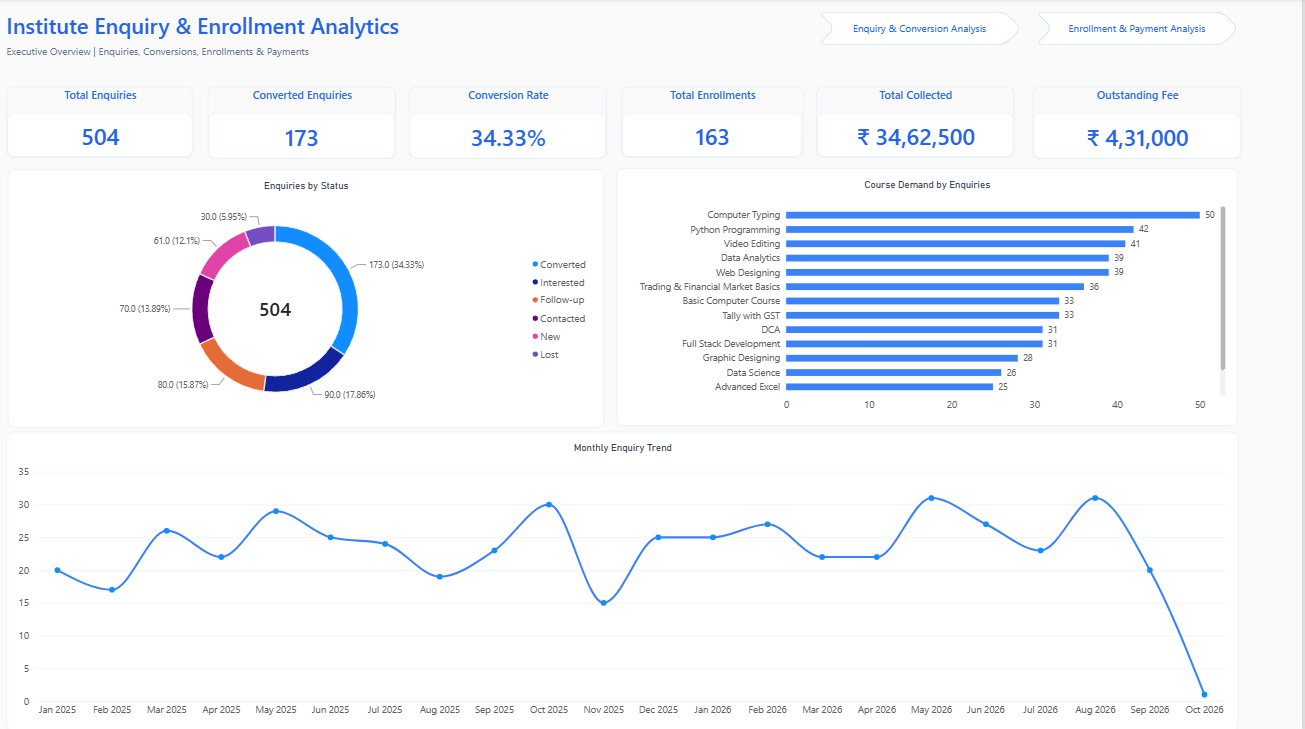

The page's visual inventory and layout, read from the dashboard file:
{"tool":"powerbi","page":{"name":"Executive Overview","canvas":[1920,1080],"ordinal":0},"visuals":[{"type":"textbox","box":[10.9,0,649.7,68.8],"z":0},{"type":"textbox","box":[10.9,68.8,624.3,43.4],"z":1000},{"type":"cardVisual","title":"Total Enquiries","fields":{"Data":["CountNonNull(institute_analytics enquiries.enquiry_id)"]},"box":[10.9,130.3,275.1,105],"z":2000},{"type":"cardVisual","title":"Converted Enquiries","fields":{"Data":["CountNonNull(institute_analytics enquiries.enquiry_id)"]},"box":[306.6,130.3,276.9,106.8],"z":3000},{"type":"cardVisual","title":"Conversion Rate","fields":{"Data":["institute_analytics enquiries.Conversion Rate"]},"box":[604.1,130.3,291.4,106.8],"z":4000},{"type":"cardVisual","title":"Total Enrollments","fields":{"Data":["CountNonNull(institute_analytics enrollments.enrollment_id)"]},"box":[916.1,130.3,267.8,105],"z":5000},{"type":"cardVisual","title":"Total Collected","fields":{"Data":["Sum(institute_analytics payments.amount_paid)"]},"box":[1204.5,130.3,291.4,105],"z":6000},{"type":"cardVisual","title":"Outstanding Fee","fields":{"Data":["institute_analytics enrollments.Outstanding Fee"]},"box":[1522.7,130.1,307.6,106.8],"z":7000},{"type":"donutChart","title":"Enquiries by Status","fields":{"Category":["institute_analytics enquiries.enquiry_status"],"Y":["CountNonNull(institute_analytics enquiries.enquiry_id)"]},"box":[12.7,251.5,877.7,380],"z":8000},{"type":"clusteredBarChart","title":"Course Demand by Enquiries","fields":{"Category":["institute_analytics courses.course_name"],"Y":["CountNonNull(institute_analytics enquiries.enquiry_id)"]},"box":[910,250,914,380],"z":9000},{"type":"lineChart","title":"Monthly Enquiry Trend","fields":{"Category":["institute_analytics enquiries.Month Year"],"Y":["CountNonNull(institute_analytics enquiries.enquiry_id)"]},"box":[10.9,638.8,1813.3,441.6],"z":10000},{"type":"pageNavigator","box":[1205.2,19.9,620.3,49.9],"z":11001}]}

Visuals, with their boxes in screenshot pixels (x1, y1, x2, y2), scaled from the page's 1920x1080 canvas onto the 1305x729 screenshot:
textbox: box(7, 0, 449, 46)
textbox: box(7, 46, 432, 76)
"Total Enquiries" cardVisual: box(7, 88, 194, 159)
"Converted Enquiries" cardVisual: box(208, 88, 397, 160)
"Conversion Rate" cardVisual: box(411, 88, 609, 160)
"Total Enrollments" cardVisual: box(623, 88, 805, 159)
"Total Collected" cardVisual: box(819, 88, 1017, 159)
"Outstanding Fee" cardVisual: box(1035, 88, 1244, 160)
"Enquiries by Status" donutChart: box(9, 170, 605, 426)
"Course Demand by Enquiries" clusteredBarChart: box(619, 169, 1240, 425)
"Monthly Enquiry Trend" lineChart: box(7, 431, 1240, 728)
pageNavigator: box(819, 13, 1241, 47)
